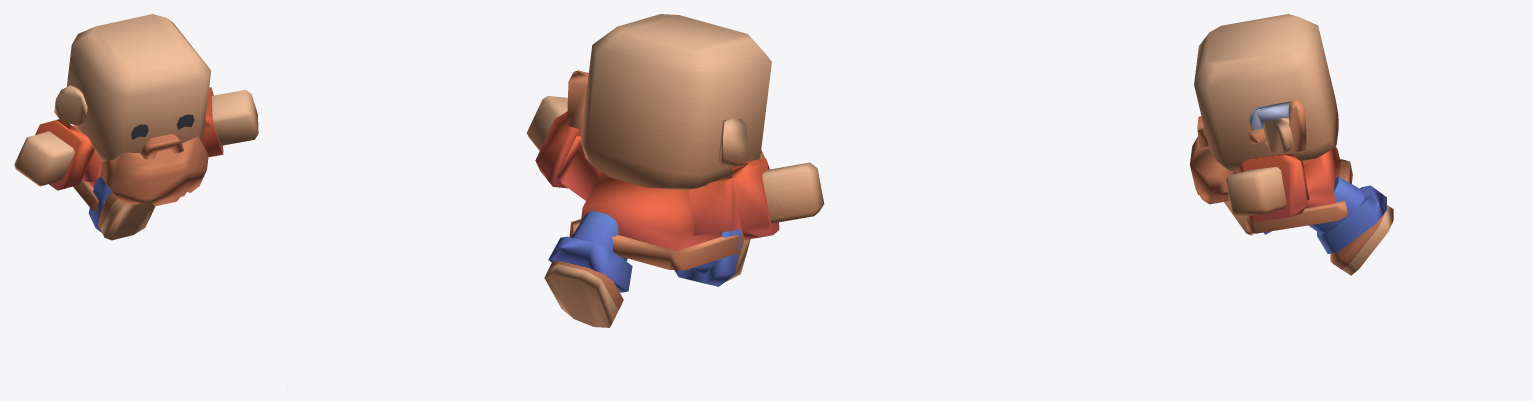
File: rival_jump_0.glb
3 renders of one model, left to right at view 1: azimuth 30°, elevation 25°; view 2: azimuth 150°, elevation 25°; view 3: azimuth 270°, elevation 25°, orthographic. The views are drawn at different scales.
Parts seen in each view (by area): view 1: rival-jump-0; view 2: rival-jump-0; view 3: rival-jump-0.
Boxes of the visible parts, left/top/right/bottom form: rival-jump-0: left=14, top=14, right=258, bottom=240; rival-jump-0: left=527, top=14, right=824, bottom=327; rival-jump-0: left=1190, top=14, right=1393, bottom=275.
Bounding box in the file's own units: 1.2 × 0.7463 × 1.2.
1 material, 1 textured.
